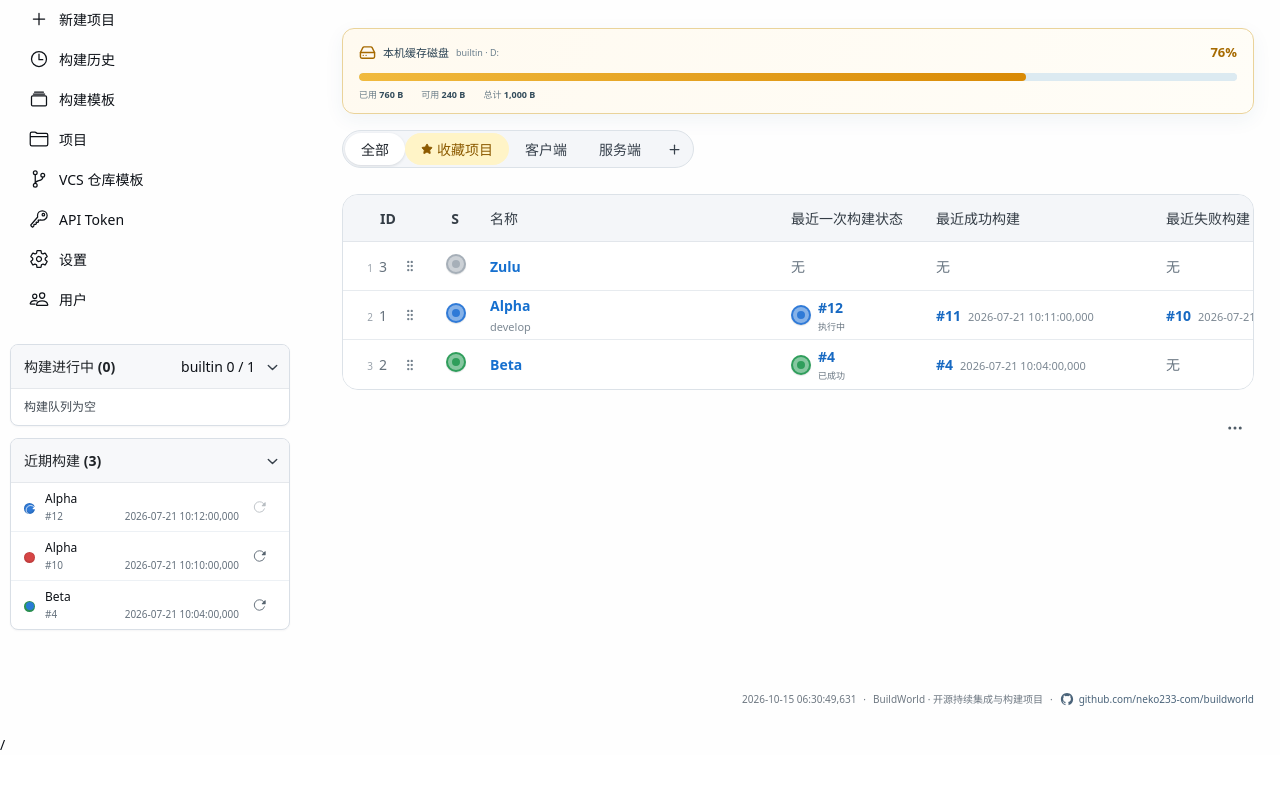
Test: Dashboard Jenkins job view › keeps the rename draft and shows a retryable save failure
Right-click the button "服务端": (620, 149) top-left (583, 133), bottom-right (657, 165)
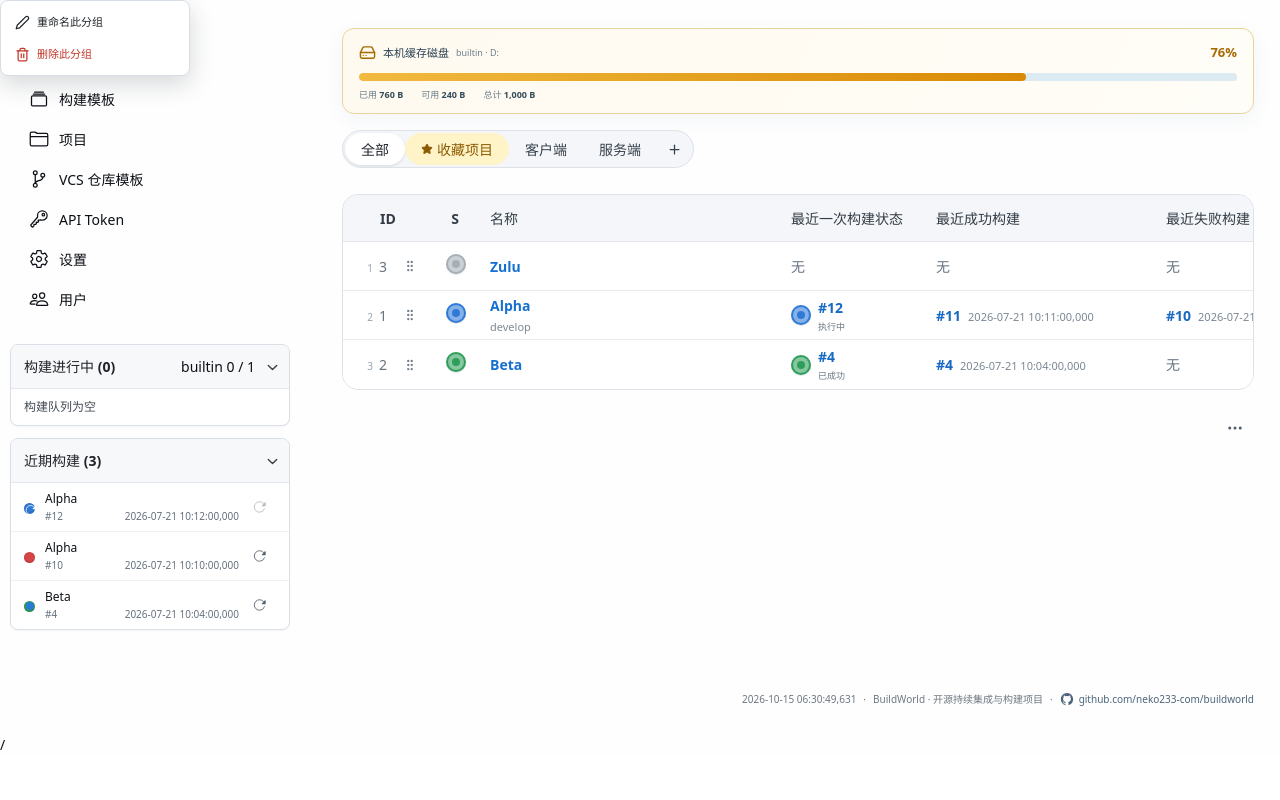
Check: the menu item "重命名此分组" is shown
Click the menu item "重命名此分组": (95, 22) top-left (6, 6), bottom-right (184, 38)
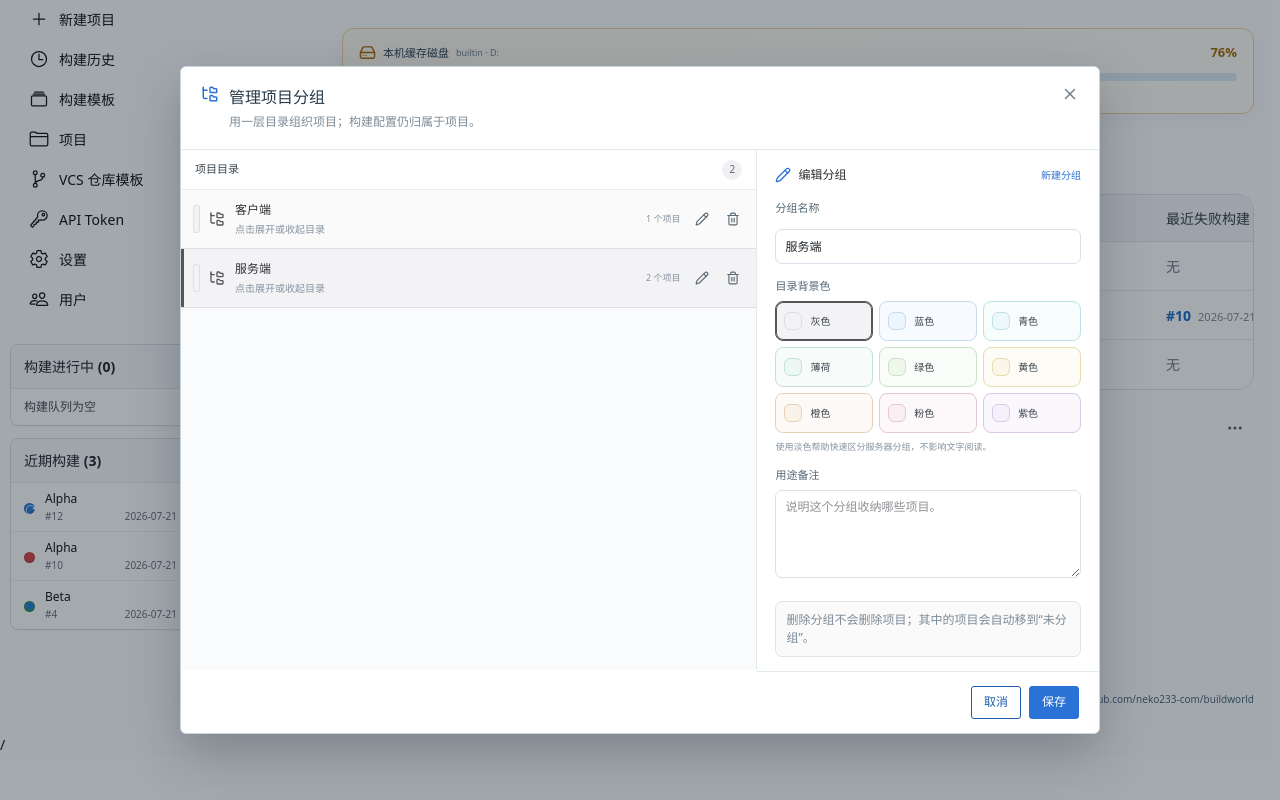
Submit the form, box top-left (757, 150), bottom-right (1099, 733)
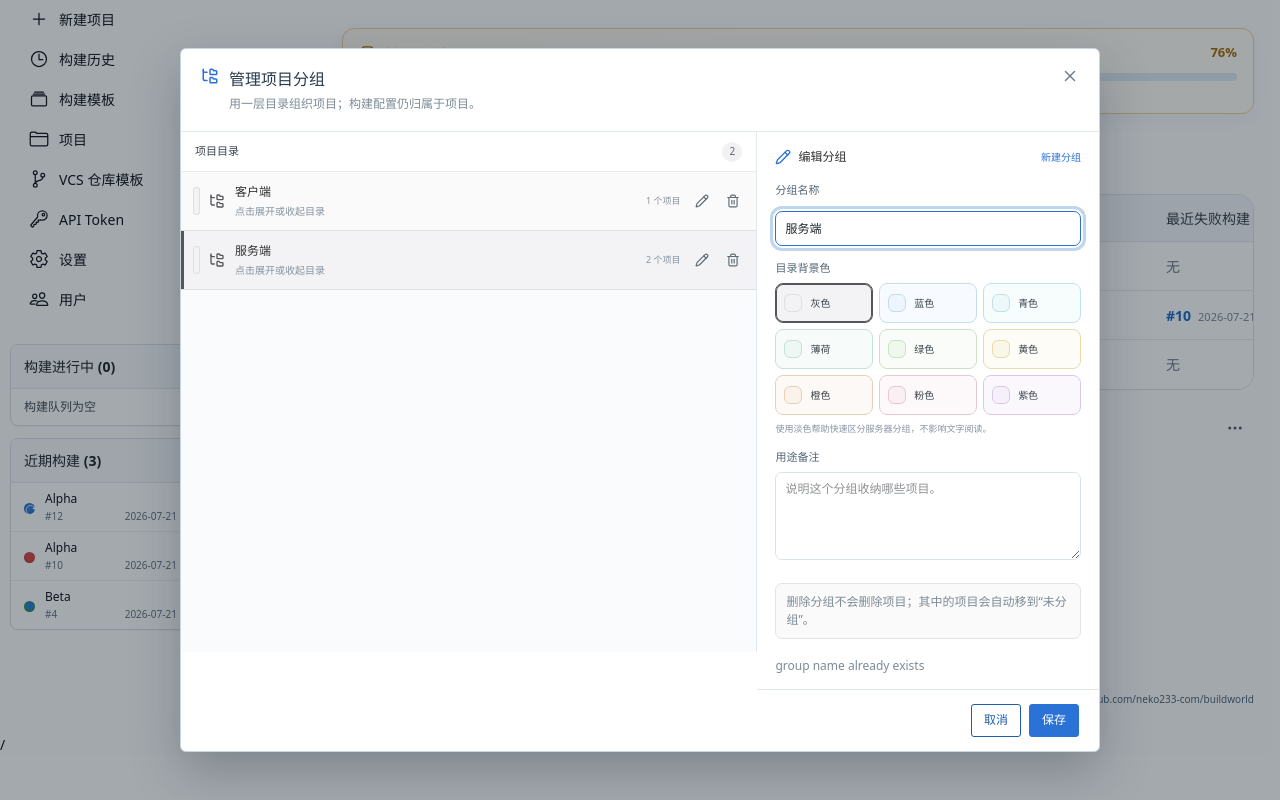
Check: the field labelled "分组名称" holds "服务端", box top-left (775, 211), bottom-right (1081, 246)
Check: the submit button is enabled, box top-left (1029, 704), bottom-right (1079, 737)
Check: the message "group name already exists" is shown, box top-left (775, 657), bottom-right (924, 674)
